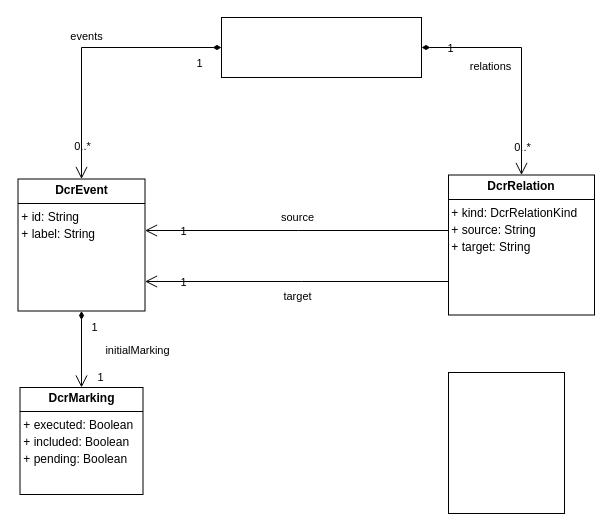
Some shapes in this 612 by 531 pixel diagram are drawn without their labels. Each missing label, with the centre of its shape:
DcrModel + name: String: the point at 321,47
«enumeration» DcrRelationKind CONDITION RESPONSE INCLUDE EXCLUDE: the point at 506,443
